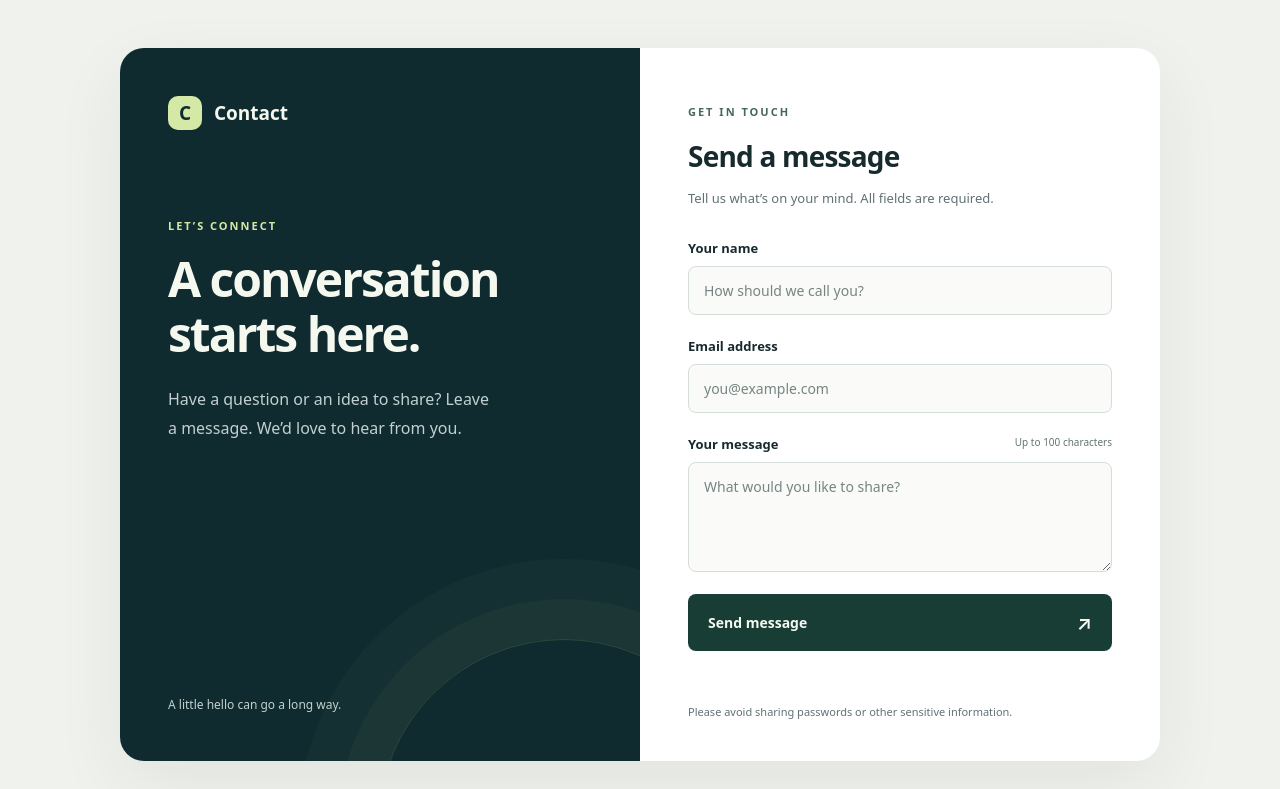
Contact form › sends the existing form contract and clears fields only on success
Type " Test User " into the field labelled "Your name". click: coordinates (900, 291)
box: [688,266,1112,315]
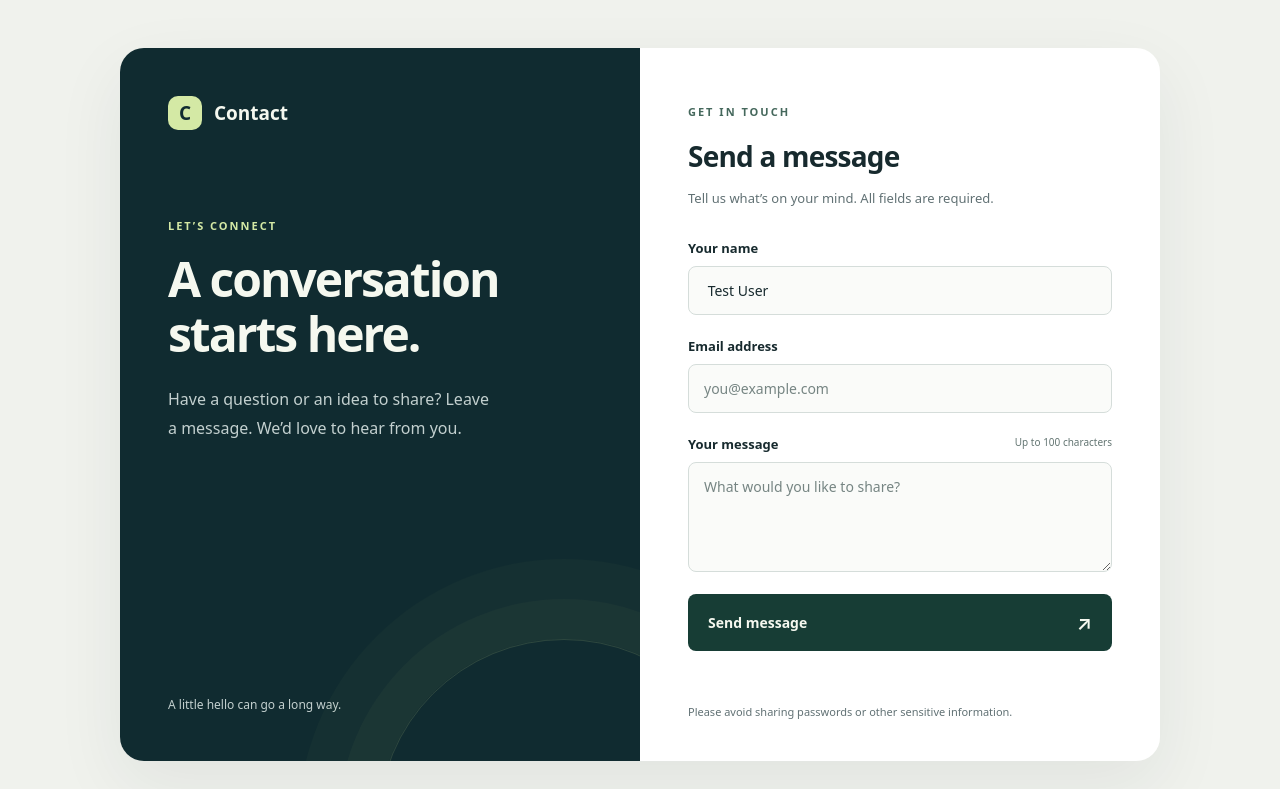
Type "user@example.com" into the field labelled "Email address". click: coordinates (900, 389)
box: [688,364,1112,413]
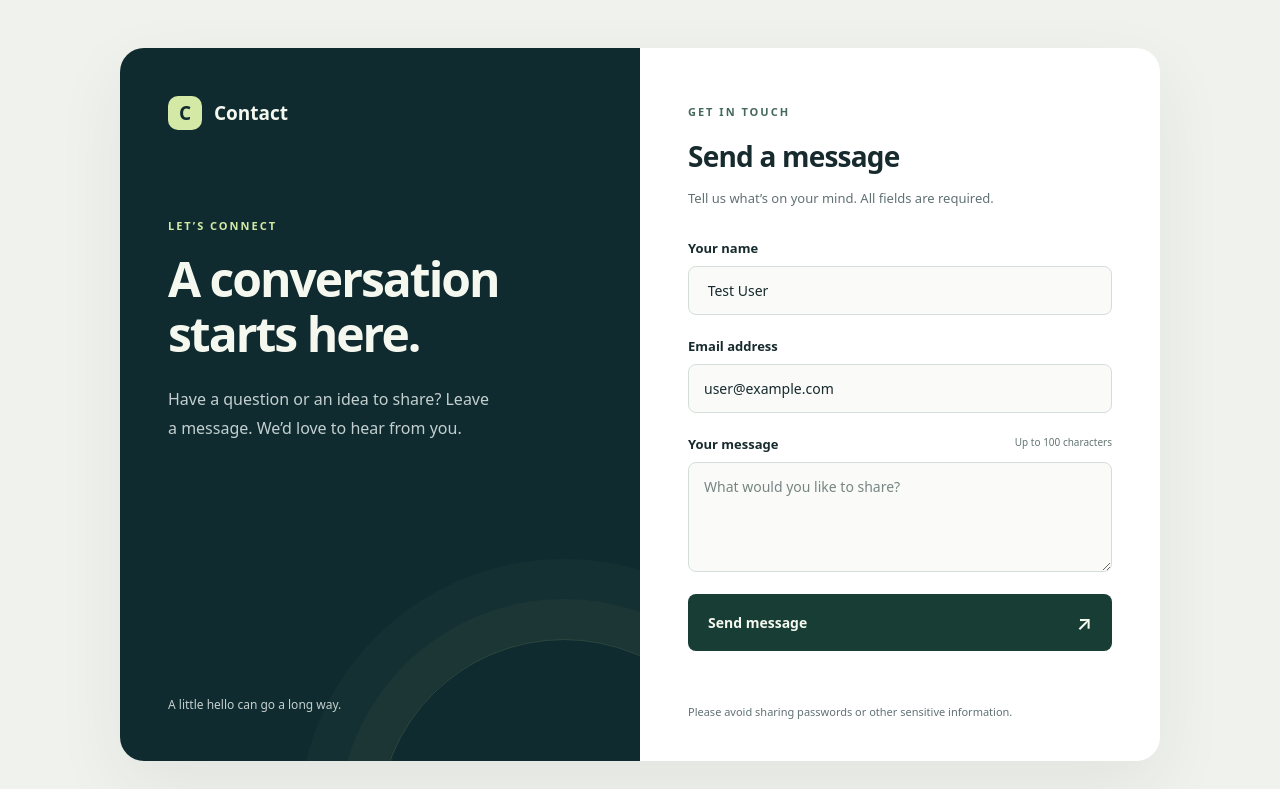
Type "Hello" into the text box labelled "Your message". click: coordinates (900, 517)
box: [688,462,1112,572]
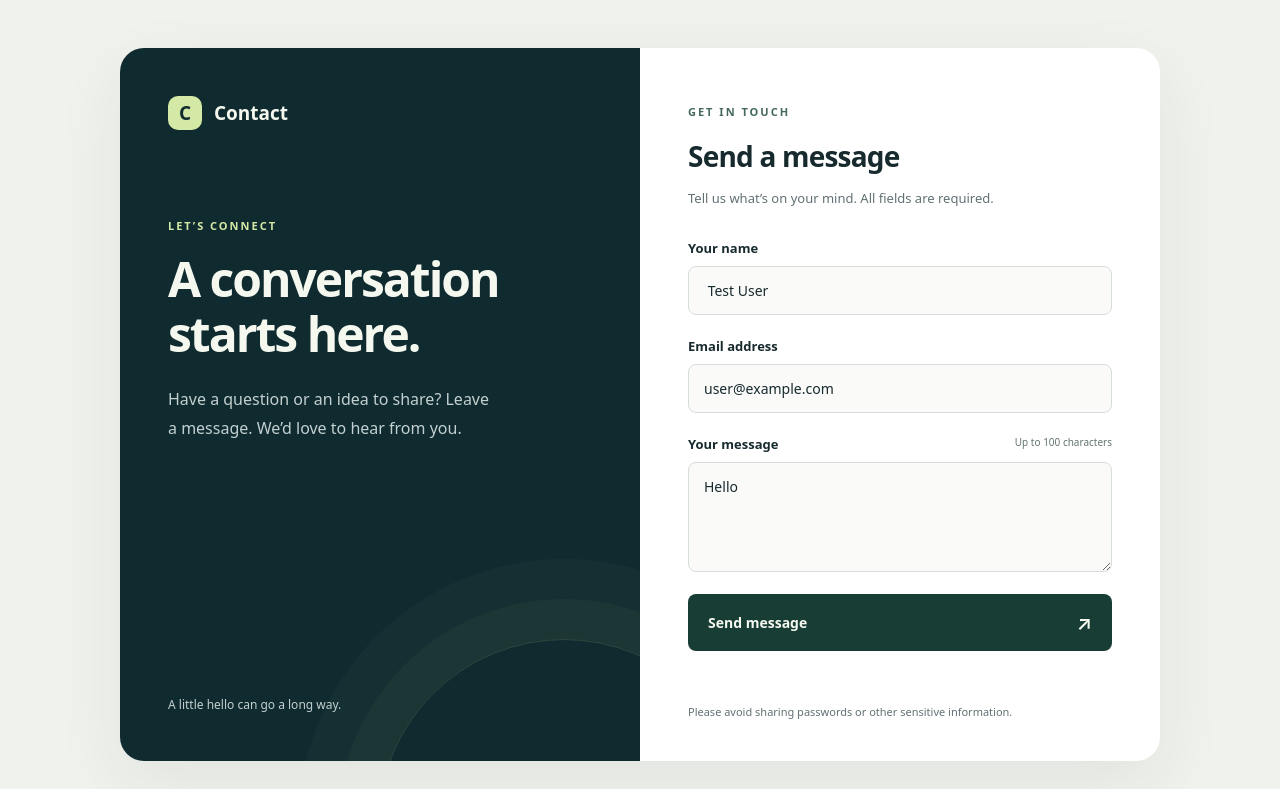
Click the button "Send message ↗". click: coordinates (758, 623)
box: [688,594,1112,651]
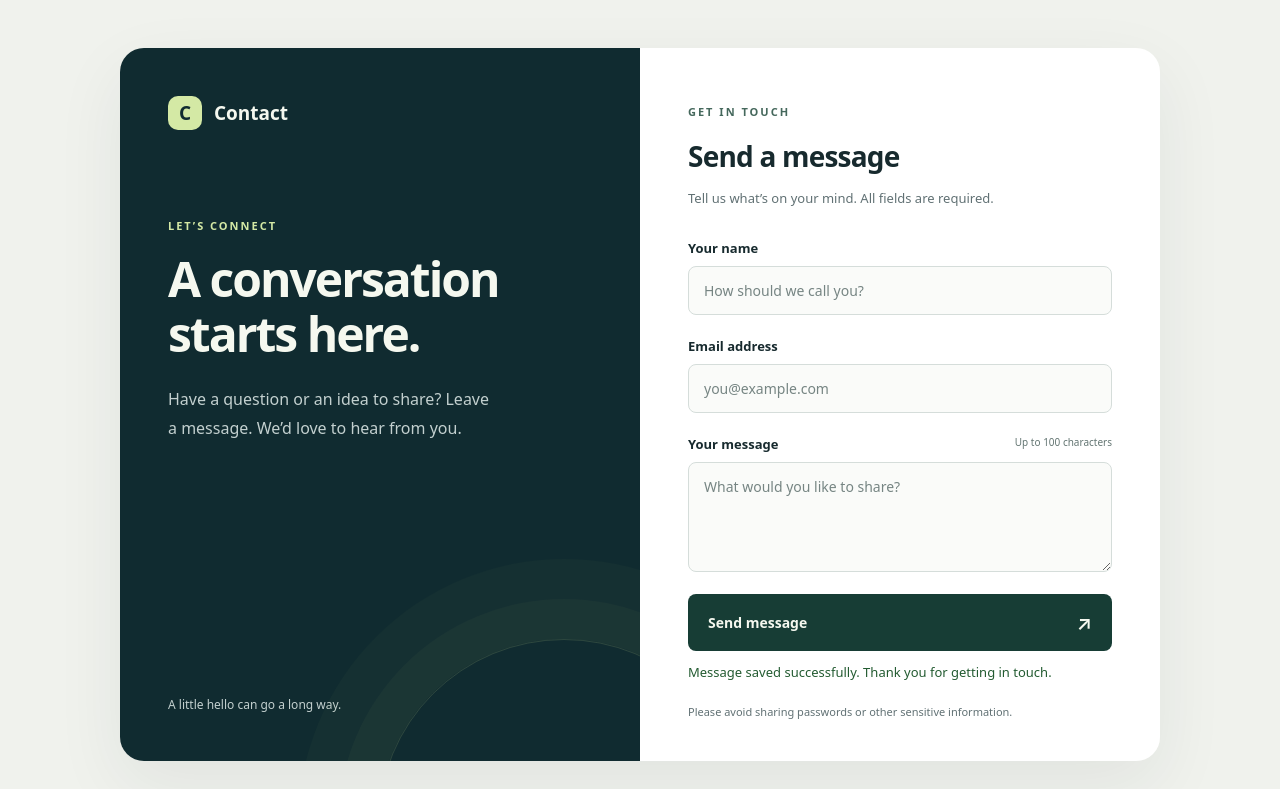
Expected: the text "Message saved successfully. Thank you for getting in touch." is shown, [688,663,1052,681]
Expected: the field labelled "Your name" is empty, [688,266,1112,315]
